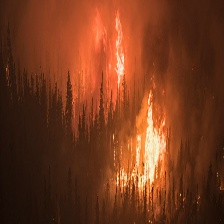fire: (117, 87, 168, 193), (87, 10, 138, 90)
